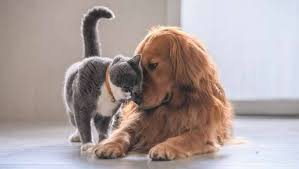cat: (58, 4, 150, 152)
dog: (128, 23, 244, 167)
